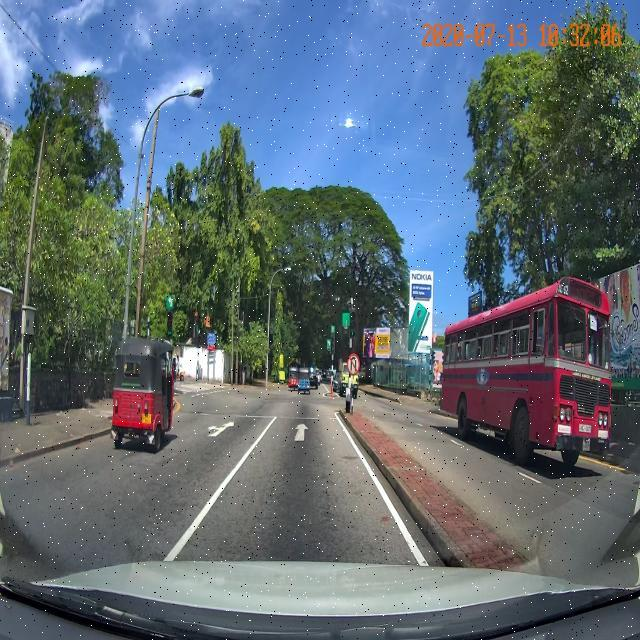forward: (242, 419, 361, 447)
